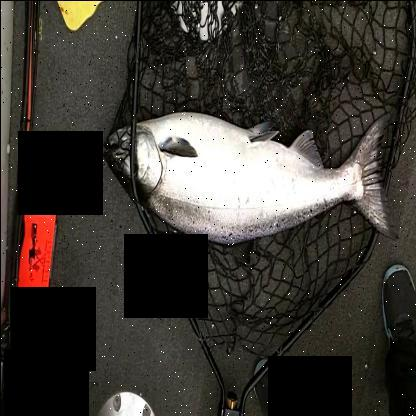fish: (105, 101, 394, 248)
